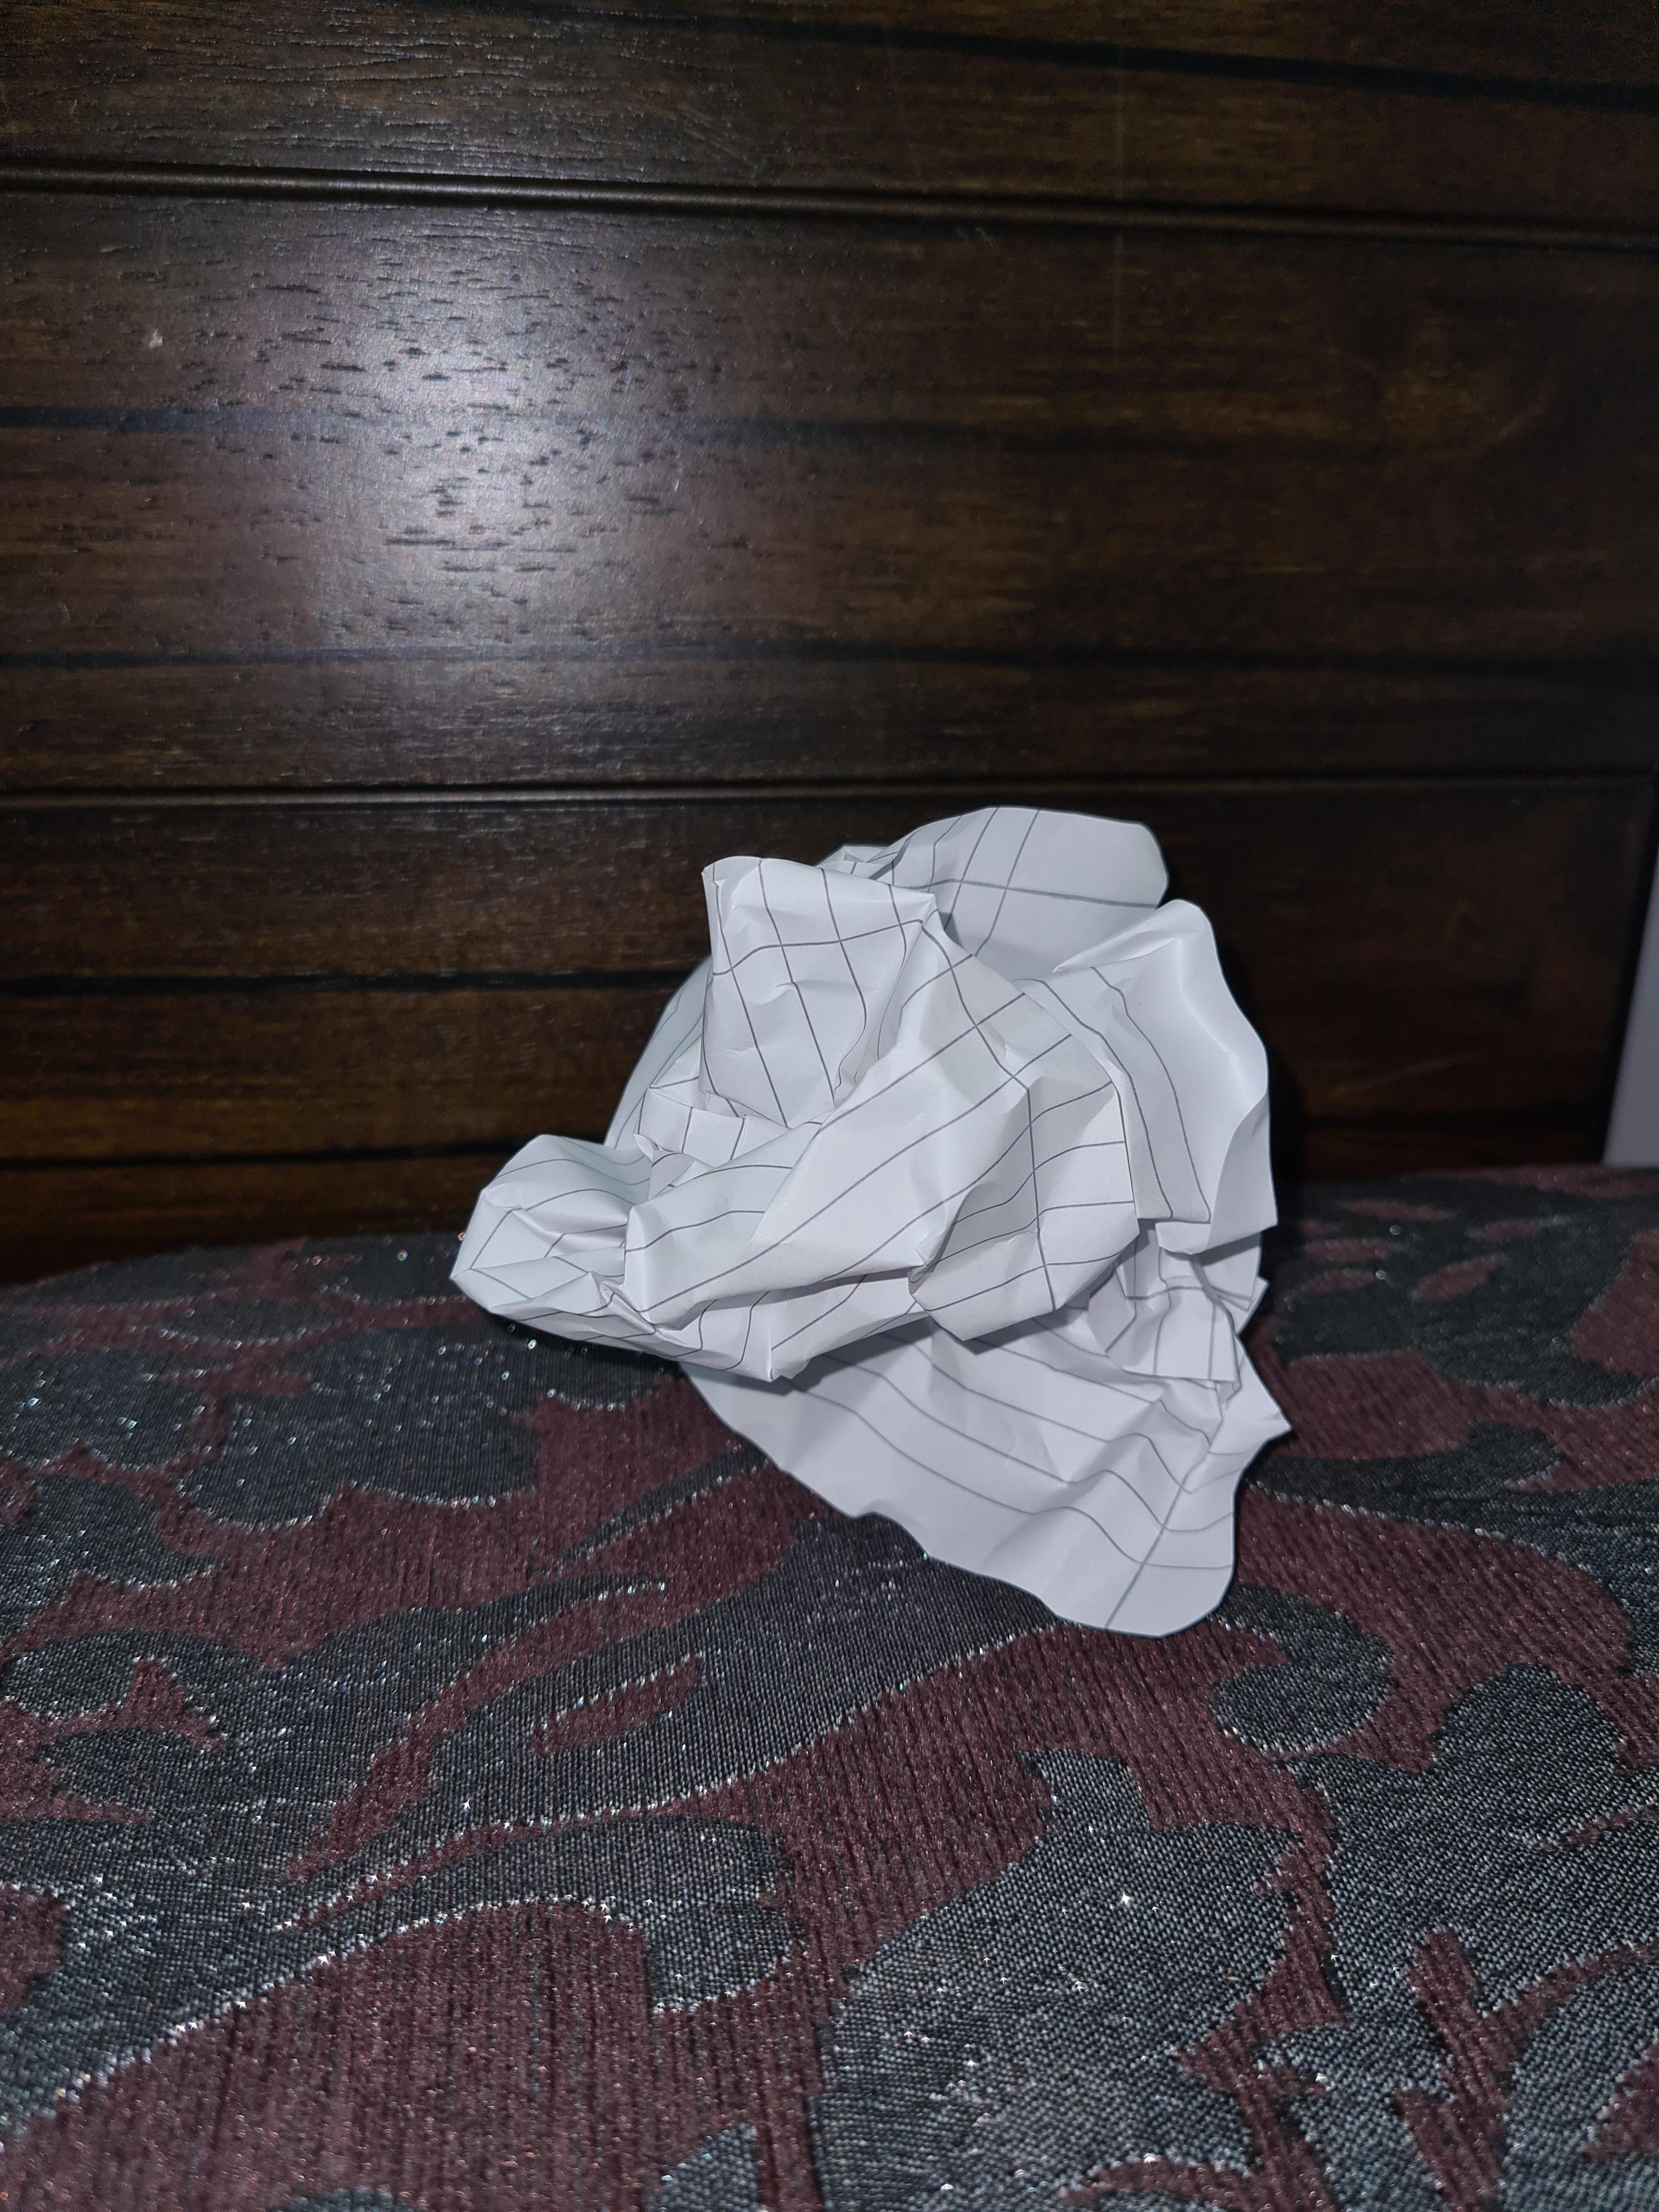Paper: (424, 813, 1291, 1647)
